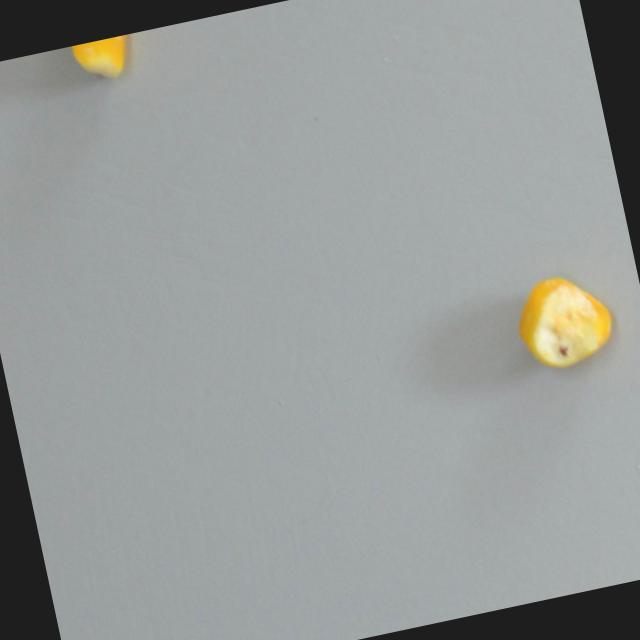pelicula: (66, 31, 148, 88)
punto_negro: (503, 259, 626, 382)
